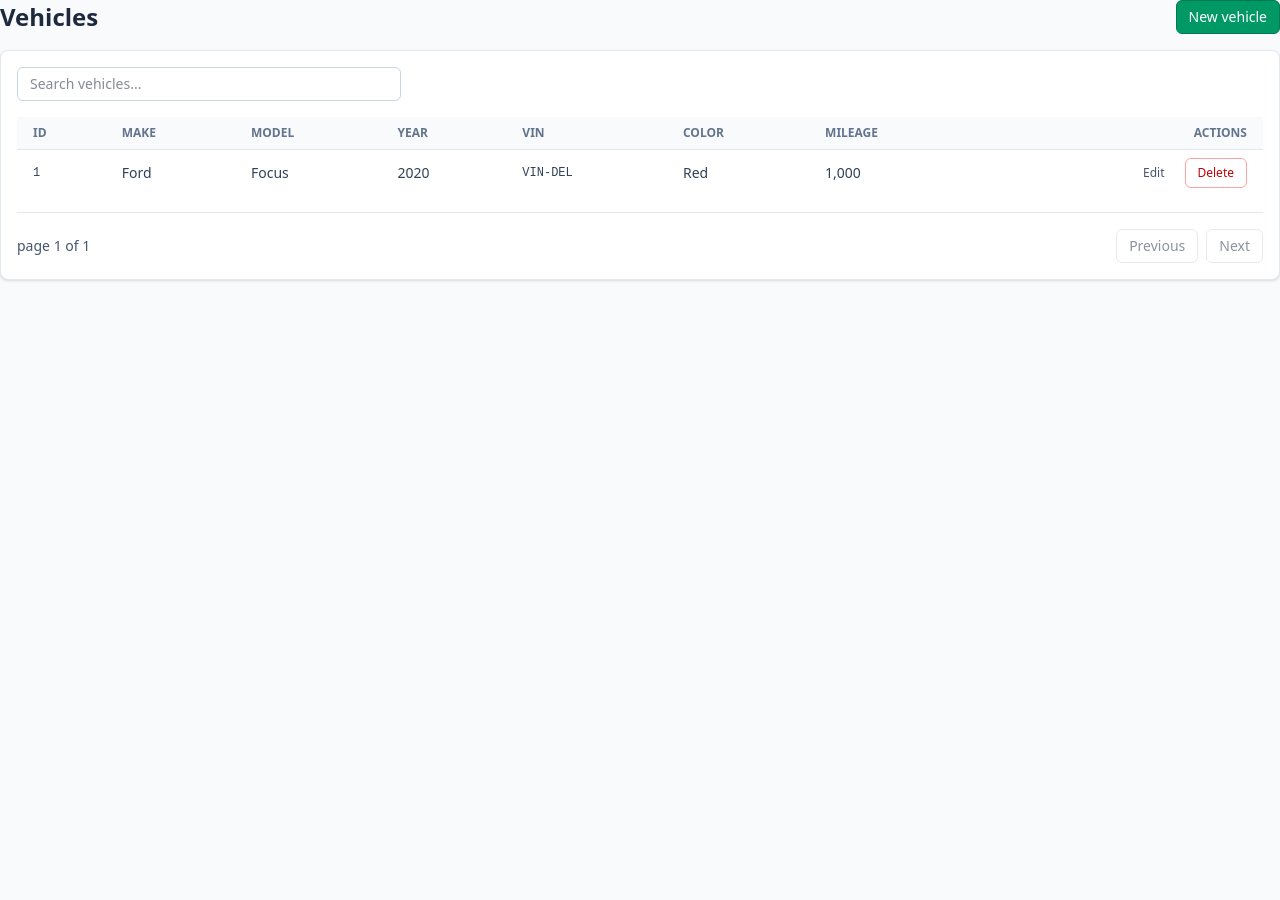
Test: VehicleListPage › T-14: VehicleListPage states › failed DELETE keeps overlay open and displays error in ErrorBox
Expected: the text "Ford" is shown, [106, 150, 235, 196]
Click delete button on row
Click the button "Delete".
click(1216, 173)  # box [1184, 158, 1247, 188]
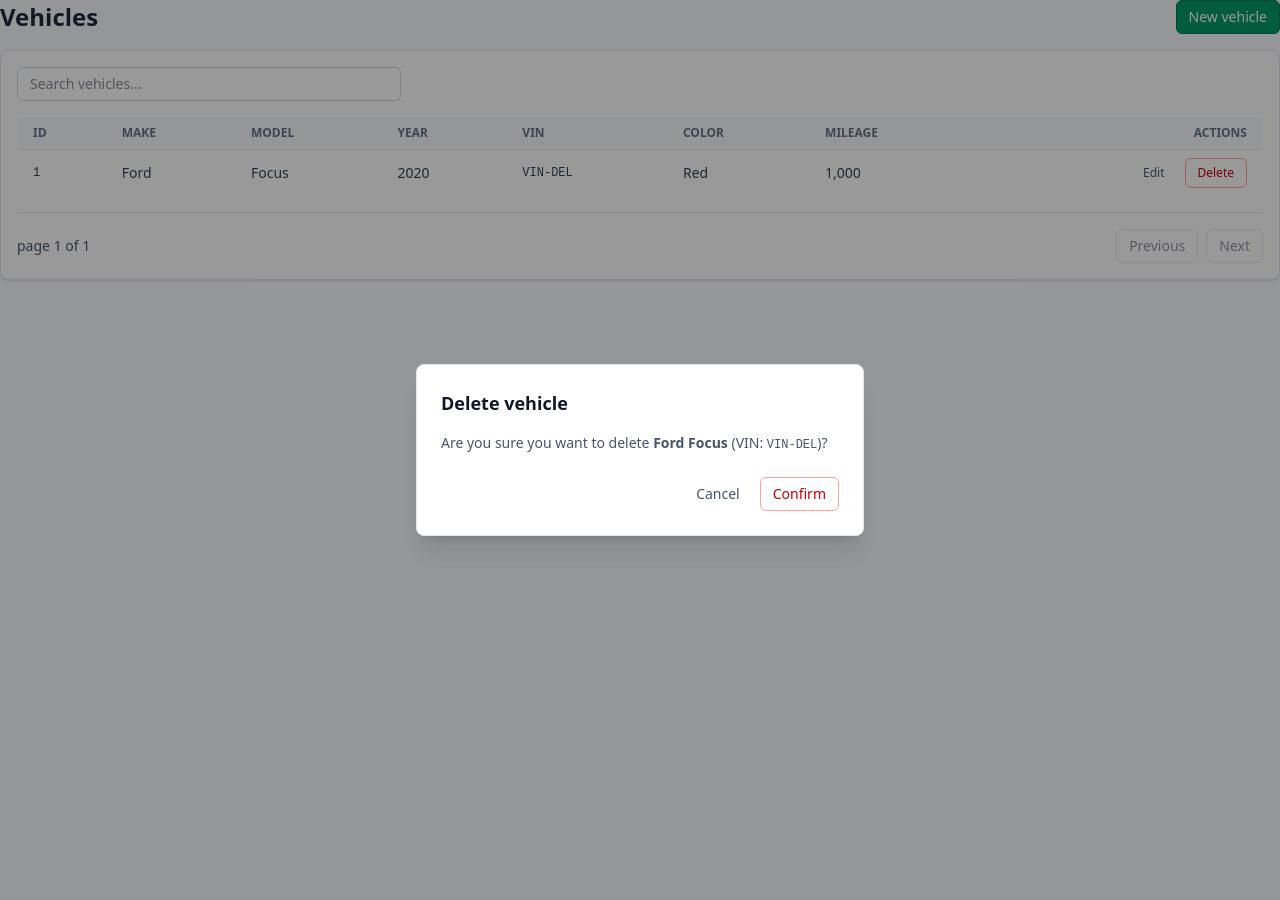
Expected: the heading "Delete vehicle" is shown, [441, 391, 568, 415]
Expected: the text "Are you sure you want to delete Ford Focus (VIN: VIN-DEL)?" is shown, [441, 433, 839, 453]
Click confirm in overlay
Click the button "Confirm".
click(799, 494)  # box [760, 477, 839, 511]
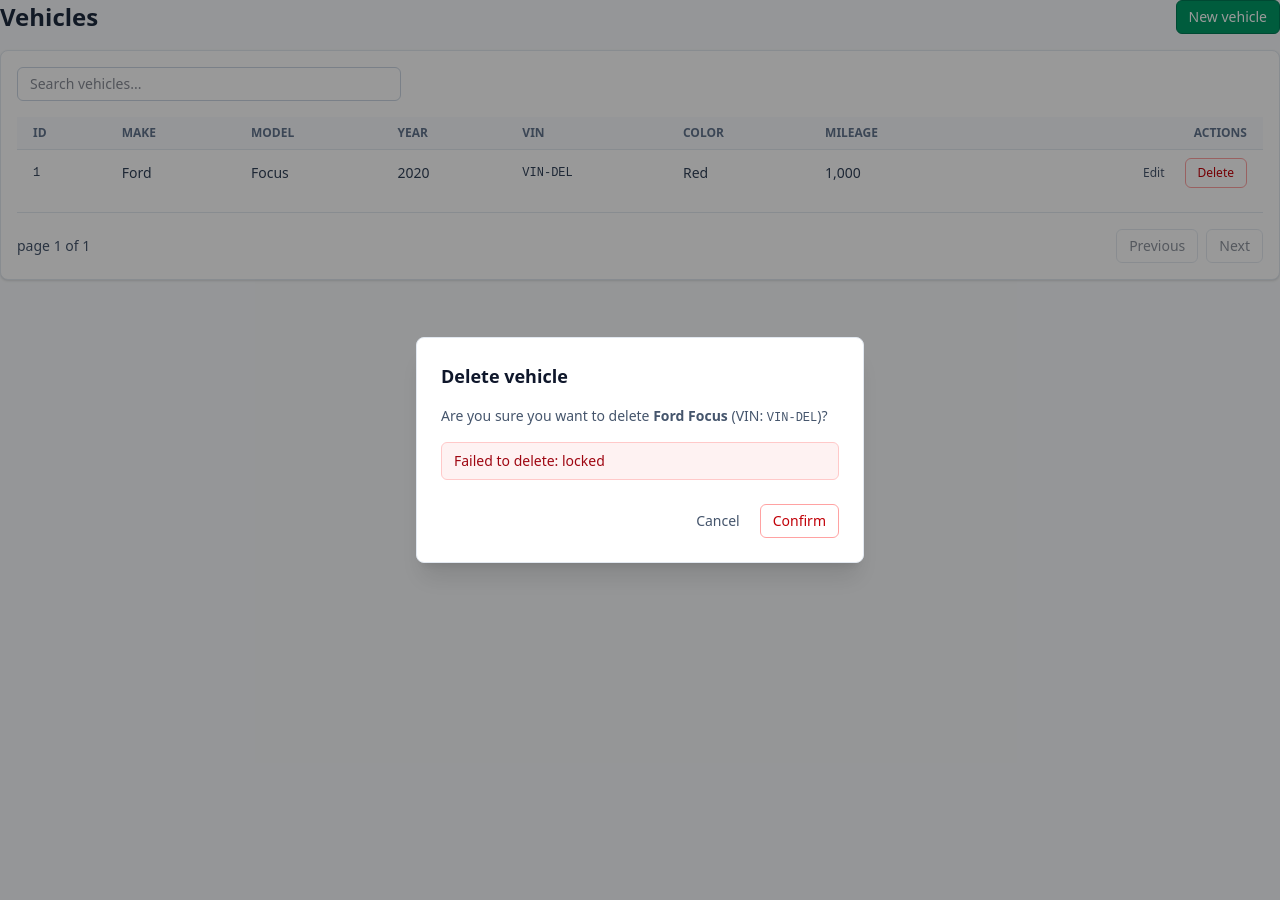
Expected: the heading "Delete vehicle" is shown, [441, 364, 568, 388]
Expected: the text "Failed to delete: locked" is shown, [441, 442, 839, 480]
